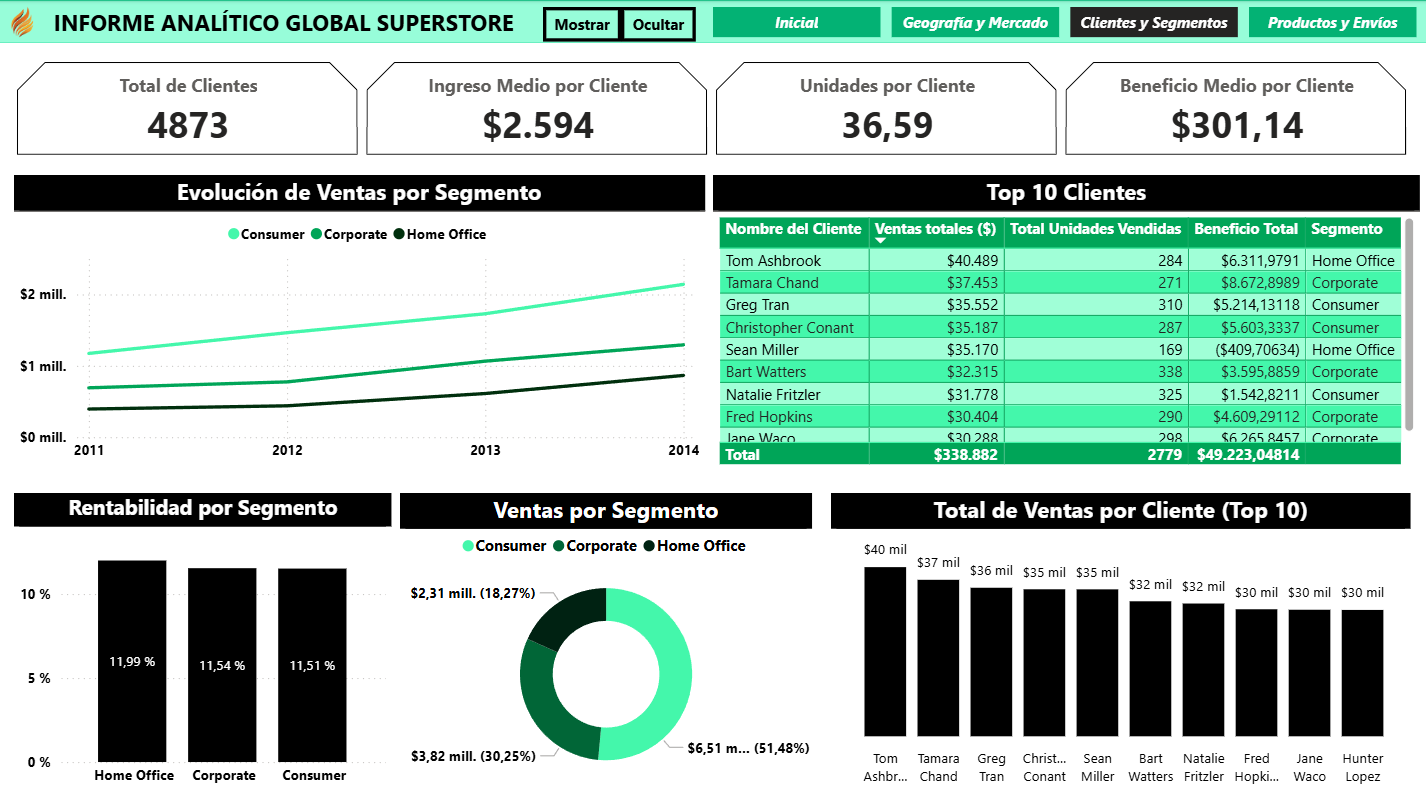

Layout of this report page (visuals, bound fields, positions):
{"tool":"powerbi","page":{"name":"Clientes y Segmentos","canvas":[1280,720],"ordinal":2},"visuals":[{"type":"group","id":"g1","title":"Grupo 1","box":[0,0,1280,40.2],"z":0},{"type":"shape","box":[0,0,1280,39.2],"z":0,"group":"g1"},{"type":"image","box":[0,0,42.3,40.2],"z":1000,"group":"g1"},{"type":"actionButton","title":"Mostrar","box":[488,6,70,31],"z":1000,"group":"g2"},{"type":"actionButton","box":[0,39.2,100,40.2],"z":1000},{"type":"actionButton","title":"Ocultar","box":[558,6,67,31],"z":2000,"group":"g2"},{"type":"pageNavigator","box":[640,6.2,632.8,27.8],"z":2000,"group":"g1"},{"type":"donutChart","title":"Ventas por Segmento","fields":{"Category":["Dim_Customer.Segment"],"Y":["Metricas.KPI_Total_Ventas"]},"box":[359.9,441.7,369.1,268.9],"z":2000},{"type":"cardVisual","fields":{"Data":["Metricas.KPI_Total_Clientes","Metricas.KPI_Ventas_por_Cliente","Metricas.KPI_Unidades_por_Cliente","Metricas.KPI_Margen_por_Cliente"]},"box":[0,38.8,1280,117.6],"z":3000},{"type":"clusteredColumnChart","title":"Rentabilidad por Segmento","fields":{"Category":["Dim_Customer.Segment"],"Y":["Metricas.KPI_Margen_bruto_%"]},"box":[14.3,441.7,338.4,270.9],"z":4000},{"type":"tableEx","title":"Top 10 Clientes ","fields":{"Values":["Dim_Customer.Customer_Name","Metricas.KPI_Total_Ventas","Metricas.KPI_Total_Unidades","Metricas.KPI_Total_Profit","Dim_Customer.Segment"]},"box":[640.3,156.7,633.1,263.3],"z":5000},{"type":"lineChart","title":"Evolución de Ventas por Segmento","fields":{"Category":["Dim_Date.Jerarquía de fecha.Año"],"Series":["Dim_Customer.Segment"],"Y":["Metricas.KPI_Total_Ventas"]},"box":[14.3,156.4,618.5,263.8],"z":6000},{"type":"lineClusteredColumnComboChart","title":"Total de Ventas por Cliente (Top 10)","fields":{"Category":["Dim_Customer.Customer_Name"],"Y":["Metricas.KPI_Total_Ventas"]},"box":[746.3,441.7,519.4,268.9],"z":7000},{"type":"group","id":"g2","title":"Filtros Activar","box":[488,6,304,337],"z":8000}]}

Visuals, with their boxes in screenshot pixels (x1, y1, x2, y2), scaled from the page's 1280x720 canvas onto the 1426x803 screenshot:
"Grupo 1" group: bbox(0, 0, 1425, 45)
shape: bbox(0, 0, 1425, 44)
image: bbox(0, 0, 47, 45)
"Mostrar" actionButton: bbox(544, 7, 622, 41)
actionButton: bbox(0, 44, 111, 89)
"Ocultar" actionButton: bbox(622, 7, 696, 41)
pageNavigator: bbox(713, 7, 1418, 38)
"Ventas por Segmento" donutChart: bbox(401, 493, 812, 793)
cardVisual - Metricas.KPI_Total_Clientes x Metricas.KPI_Ventas_por_Cliente: bbox(0, 43, 1425, 174)
"Rentabilidad por Segmento" clusteredColumnChart: bbox(16, 493, 393, 795)
"Top 10 Clientes " tableEx: bbox(713, 175, 1419, 468)
"Evolución de Ventas por Segmento" lineChart: bbox(16, 174, 705, 469)
"Total de Ventas por Cliente (Top 10)" lineClusteredColumnComboChart: bbox(831, 493, 1410, 793)
"Filtros Activar" group: bbox(544, 7, 882, 383)
